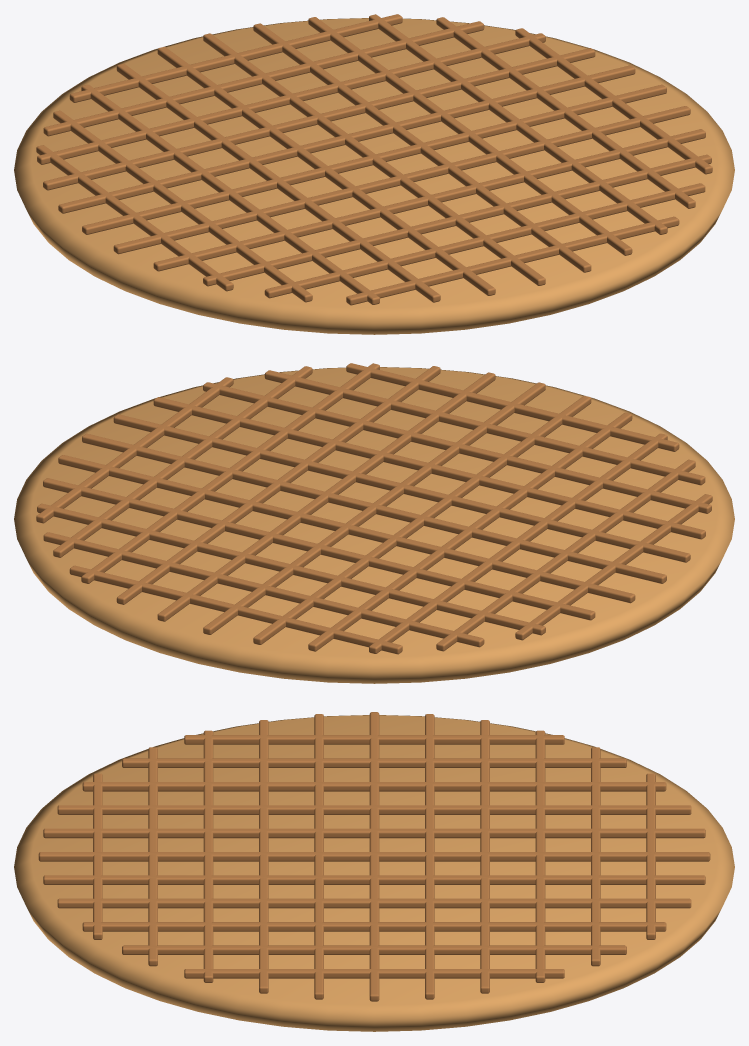
File: Flat_baked_waffle.fbx
3 views of the same model, one above another, from view 1: azimuth 30°, elevation 25°; view 2: azimuth 150°, elevation 25°; view 3: azimuth 270°, elevation 25° (orthographic).
Visible parts, largest first — view 1: Toon_Flat_baked_waffle Waffle disc.001, Toon_Flat_baked_waffle Baked grid.038, Toon_Flat_baked_waffle Baked grid.039, Toon_Flat_baked_waffle Baked grid.037, Toon_Flat_baked_waffle Baked grid.040, Toon_Flat_baked_waffle Baked grid.036, Toon_Flat_baked_waffle Baked grid.041, Toon_Flat_baked_waffle Baked grid.035, Toon_Flat_baked_waffle Baked grid.034, Toon_Flat_baked_waffle Baked grid.027, Toon_Flat_baked_waffle Baked grid.042, Toon_Flat_baked_waffle Baked grid.028 (+11 smaller); view 2: Toon_Flat_baked_waffle Waffle disc.001, Toon_Flat_baked_waffle Baked grid.038, Toon_Flat_baked_waffle Baked grid.037, Toon_Flat_baked_waffle Baked grid.039, Toon_Flat_baked_waffle Baked grid.036, Toon_Flat_baked_waffle Baked grid.040, Toon_Flat_baked_waffle Baked grid.041, Toon_Flat_baked_waffle Baked grid.035, Toon_Flat_baked_waffle Baked grid.027, Toon_Flat_baked_waffle Baked grid.042, Toon_Flat_baked_waffle Baked grid.034, Toon_Flat_baked_waffle Baked grid.028 (+11 smaller); view 3: Toon_Flat_baked_waffle Waffle disc.001, Toon_Flat_baked_waffle Baked grid.026, Toon_Flat_baked_waffle Baked grid.029, Toon_Flat_baked_waffle Baked grid.027, Toon_Flat_baked_waffle Baked grid.028, Toon_Flat_baked_waffle Baked grid.025, Toon_Flat_baked_waffle Baked grid.030, Toon_Flat_baked_waffle Baked grid.024, Toon_Flat_baked_waffle Baked grid.023, Toon_Flat_baked_waffle Baked grid.031, Toon_Flat_baked_waffle Baked grid.022, Toon_Flat_baked_waffle Baked grid.032 (+11 smaller).
Boxes of the visible parts, x1=… form: Toon_Flat_baked_waffle Waffle disc.001: x1=14, y1=18, x2=734, y2=334; Toon_Flat_baked_waffle Baked grid.038: x1=82, y1=84, x2=666, y2=234; Toon_Flat_baked_waffle Baked grid.039: x1=58, y1=65, x2=635, y2=213; Toon_Flat_baked_waffle Baked grid.037: x1=113, y1=106, x2=690, y2=254; Toon_Flat_baked_waffle Baked grid.040: x1=43, y1=48, x2=595, y2=190; Toon_Flat_baked_waffle Baked grid.036: x1=153, y1=129, x2=705, y2=271; Toon_Flat_baked_waffle Baked grid.041: x1=37, y1=33, x2=545, y2=164; Toon_Flat_baked_waffle Baked grid.035: x1=203, y1=154, x2=711, y2=286; Toon_Flat_baked_waffle Baked grid.034: x1=264, y1=183, x2=705, y2=298; Toon_Flat_baked_waffle Baked grid.027: x1=203, y1=33, x2=545, y2=285; Toon_Flat_baked_waffle Baked grid.042: x1=43, y1=21, x2=484, y2=136; Toon_Flat_baked_waffle Baked grid.028: x1=253, y1=23, x2=591, y2=272; Toon_Flat_baked_waffle Waffle disc.001: x1=14, y1=367, x2=734, y2=683; Toon_Flat_baked_waffle Baked grid.038: x1=82, y1=433, x2=666, y2=583; Toon_Flat_baked_waffle Baked grid.037: x1=113, y1=414, x2=690, y2=562; Toon_Flat_baked_waffle Baked grid.039: x1=58, y1=455, x2=635, y2=603; Toon_Flat_baked_waffle Baked grid.036: x1=153, y1=397, x2=705, y2=539; Toon_Flat_baked_waffle Baked grid.040: x1=43, y1=478, x2=595, y2=620; Toon_Flat_baked_waffle Baked grid.041: x1=37, y1=503, x2=545, y2=635; Toon_Flat_baked_waffle Baked grid.035: x1=203, y1=382, x2=711, y2=513; Toon_Flat_baked_waffle Baked grid.027: x1=203, y1=382, x2=545, y2=634; Toon_Flat_baked_waffle Baked grid.042: x1=43, y1=532, x2=484, y2=647; Toon_Flat_baked_waffle Baked grid.034: x1=264, y1=370, x2=705, y2=485; Toon_Flat_baked_waffle Baked grid.028: x1=157, y1=372, x2=495, y2=621; Toon_Flat_baked_waffle Waffle disc.001: x1=14, y1=715, x2=734, y2=1031; Toon_Flat_baked_waffle Baked grid.026: x1=43, y1=828, x2=705, y2=838; Toon_Flat_baked_waffle Baked grid.029: x1=57, y1=898, x2=691, y2=908; Toon_Flat_baked_waffle Baked grid.027: x1=38, y1=852, x2=710, y2=861; Toon_Flat_baked_waffle Baked grid.028: x1=43, y1=875, x2=705, y2=884; Toon_Flat_baked_waffle Baked grid.025: x1=57, y1=805, x2=691, y2=814; Toon_Flat_baked_waffle Baked grid.030: x1=82, y1=922, x2=666, y2=931; Toon_Flat_baked_waffle Baked grid.024: x1=82, y1=782, x2=666, y2=791; Toon_Flat_baked_waffle Baked grid.023: x1=122, y1=758, x2=626, y2=767; Toon_Flat_baked_waffle Baked grid.031: x1=122, y1=945, x2=626, y2=954; Toon_Flat_baked_waffle Baked grid.022: x1=184, y1=735, x2=564, y2=744; Toon_Flat_baked_waffle Baked grid.032: x1=184, y1=969, x2=564, y2=978.
Size of the model in its own units: 37.8 by 1.7 by 37.8.
